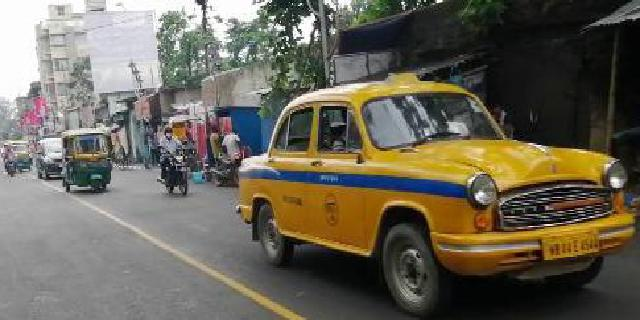Autorickshaw: (57, 129, 123, 193)
Car: (236, 81, 636, 310)
Motorbike: (153, 125, 199, 201)
